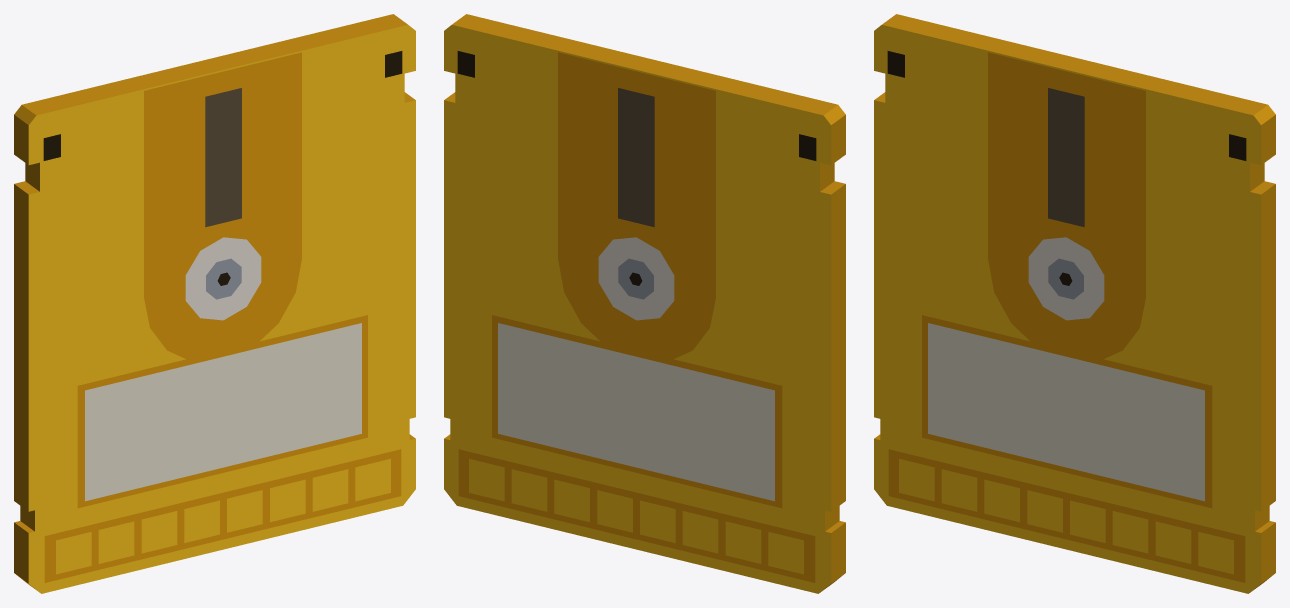
The model's file is fds.obj.
3 renders of one model, left to right at view 1: azimuth 30°, elevation 25°; view 2: azimuth 150°, elevation 25°; view 3: azimuth 330°, elevation 25°, orthographic.
Parts seen in each view (by area): view 1: fds; view 2: fds; view 3: fds.
Part boxes in pixels (x1=…): fds: x1=14, y1=14, x2=415, y2=593; fds: x1=444, y1=14, x2=845, y2=593; fds: x1=874, y1=14, x2=1275, y2=593.
Bounding box in the file's own units: 7.6 × 9 × 0.62.
